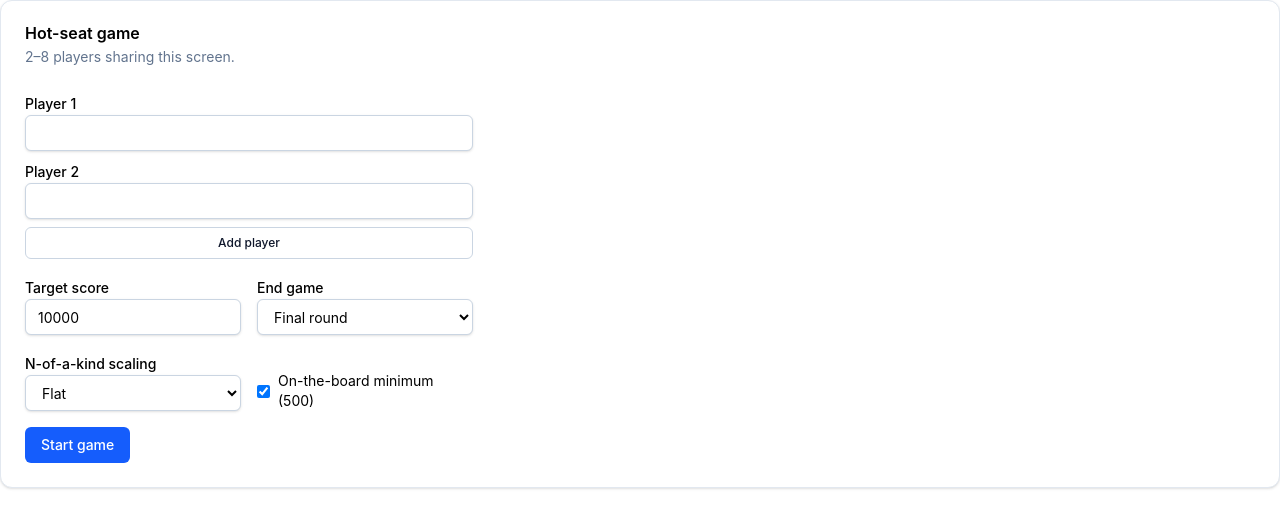
Test: GamePage › shows the setup form first and starts a game from it
The width and height of the screenshot is (1280, 506).
Step 1. Type "Ann" into the field labelled "Player 1" → (249, 133), box [25,115,473,151]
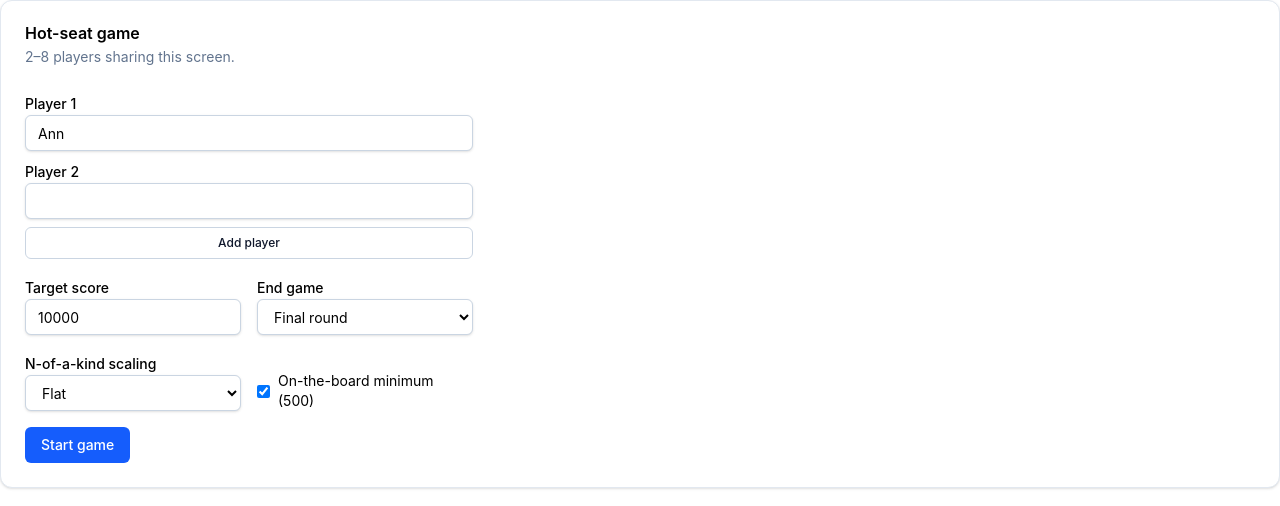
Step 2. Type "Ben" into the field labelled "Player 2" → (249, 201), box [25,183,473,219]
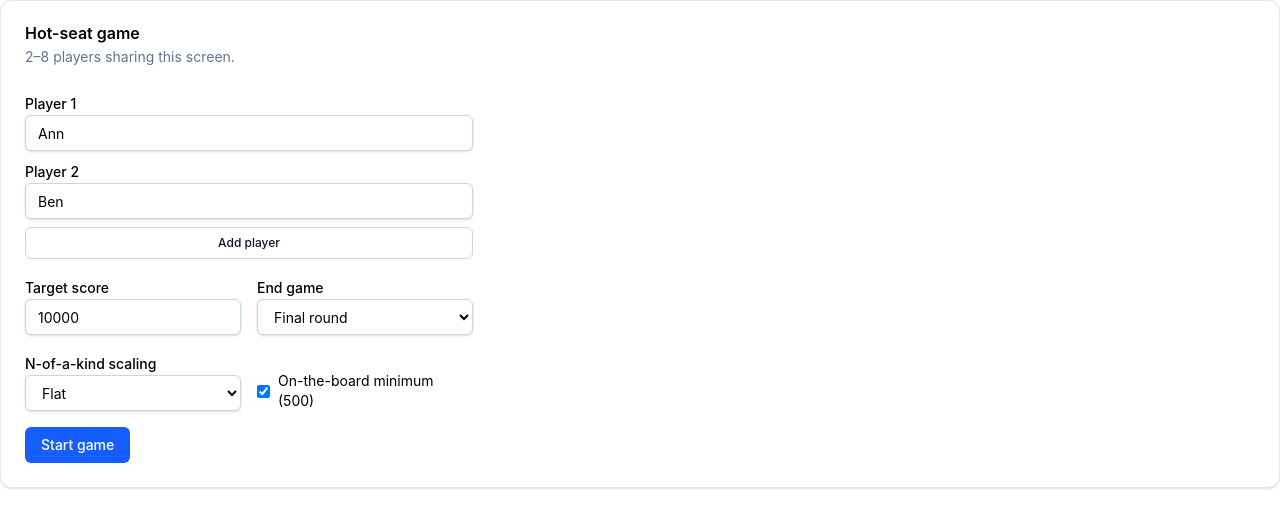
Step 3. Click the button "Start game" → (78, 445), box [25,427,130,463]
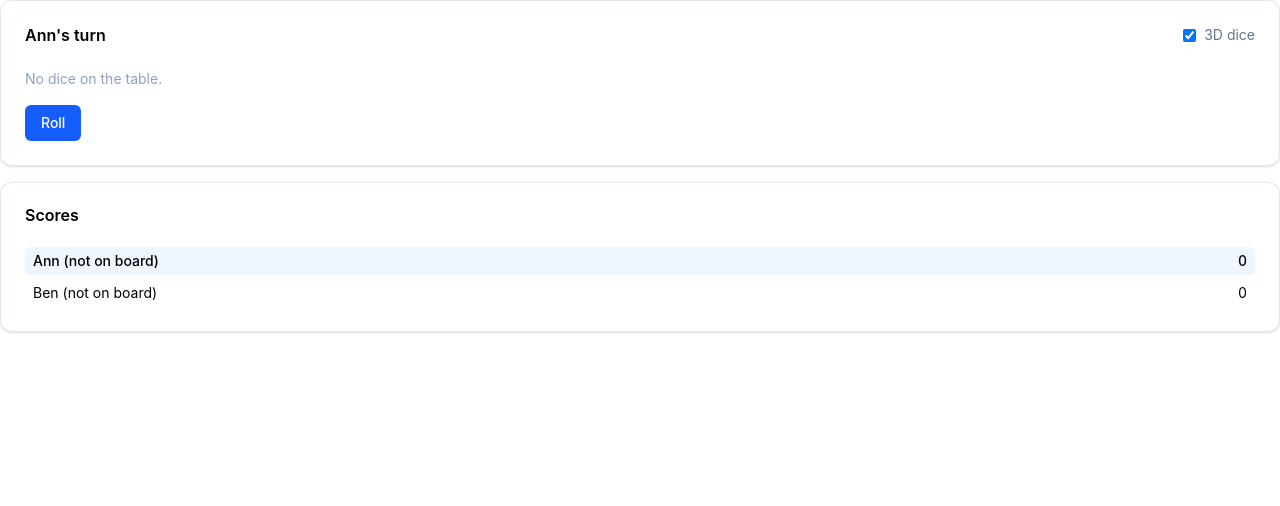
Result: the button "Roll" is shown at [25,105,81,141]
Result: the heading "Ann's turn" is shown at [25,27,106,43]
